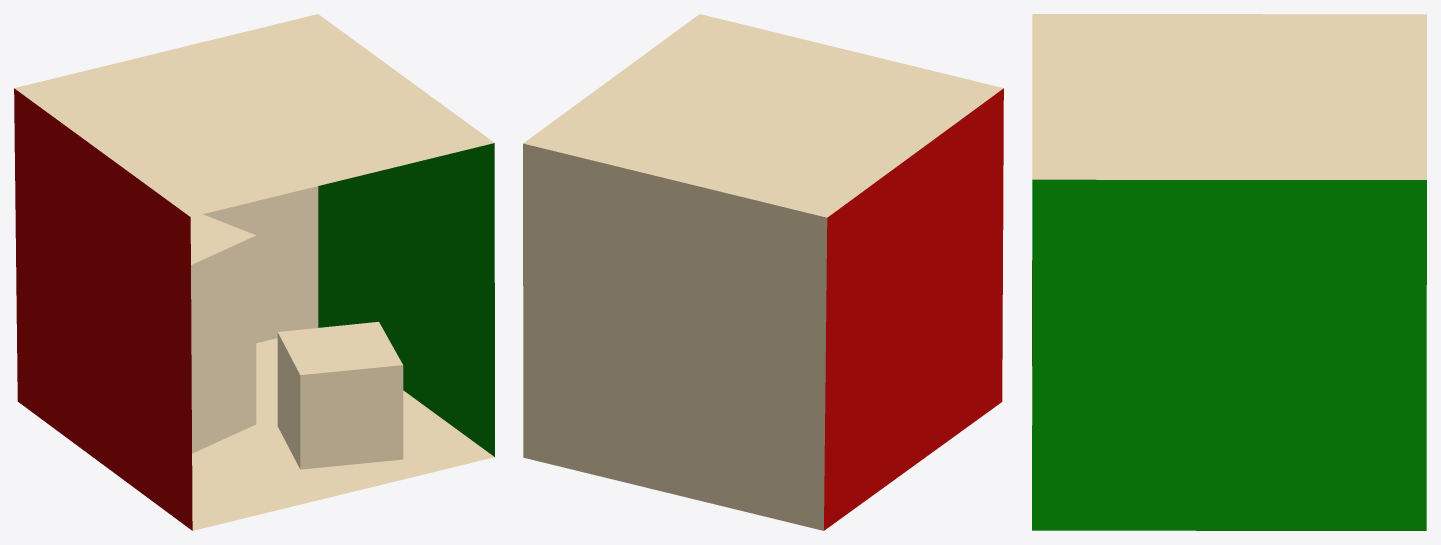
File: cornell-box2.dae
3 renders of one model, left to right at view 1: azimuth 30°, elevation 25°; view 2: azimuth 150°, elevation 25°; view 3: azimuth 270°, elevation 25°, orthographic. The views are drawn at different scales.
Parts seen in each view (by area): view 1: left_wall, ceiling, right_wall, floor, short_box, tall_box, back_wall; view 2: back_wall, left_wall, ceiling; view 3: right_wall, ceiling.
Boxes of the visible parts, x1=… form: left_wall: x1=14, y1=88, x2=192, y2=530; ceiling: x1=14, y1=14, x2=494, y2=216; right_wall: x1=318, y1=143, x2=494, y2=456; floor: x1=192, y1=338, x2=494, y2=530; short_box: x1=277, y1=322, x2=403, y2=469; tall_box: x1=190, y1=214, x2=256, y2=453; back_wall: x1=203, y1=186, x2=318, y2=343; back_wall: x1=523, y1=143, x2=827, y2=530; left_wall: x1=824, y1=88, x2=1003, y2=530; ceiling: x1=523, y1=14, x2=1003, y2=217; right_wall: x1=1032, y1=179, x2=1426, y2=530; ceiling: x1=1032, y1=14, x2=1426, y2=179.
Size of the model in its own units: 5.56 by 5.6 by 5.49.
